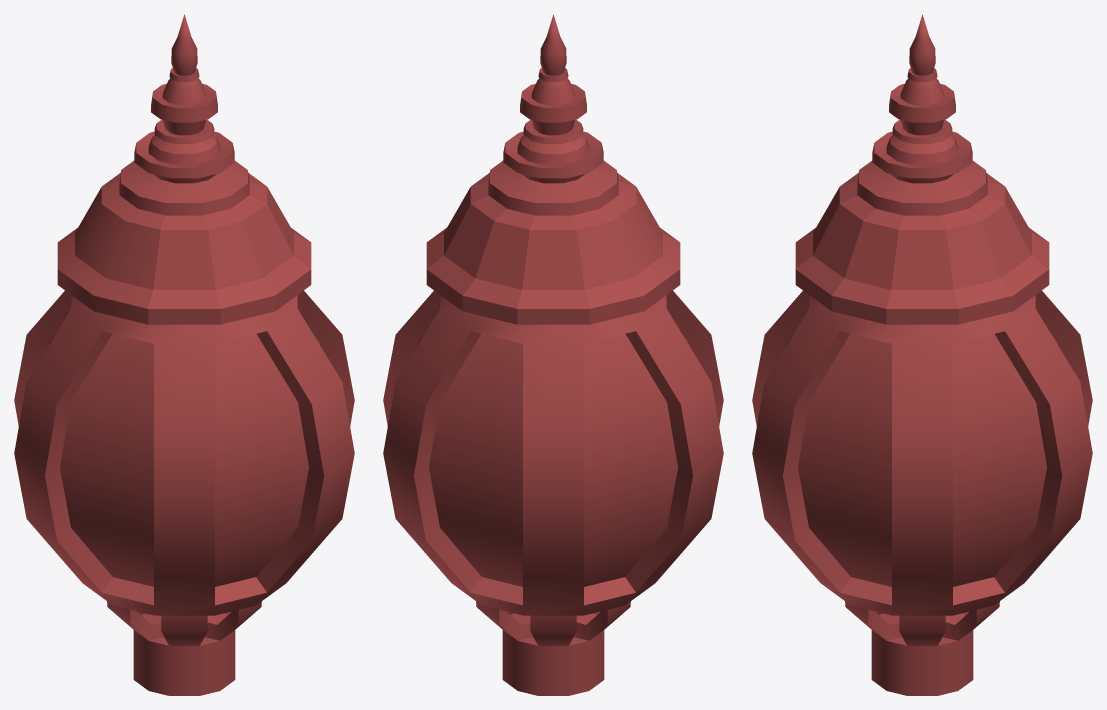
The model's file is StreetLightTop_1.fbx.
3 renders of one model, left to right at view 1: azimuth 30°, elevation 25°; view 2: azimuth 150°, elevation 25°; view 3: azimuth 270°, elevation 25°, orthographic.
Parts seen in each view (by area): view 1: StreetLightTop_1; view 2: StreetLightTop_1; view 3: StreetLightTop_1.
Part boxes in pixels (bbox=[...]): StreetLightTop_1: bbox=[14, 14, 354, 695]; StreetLightTop_1: bbox=[383, 14, 723, 695]; StreetLightTop_1: bbox=[752, 14, 1092, 695].
Bounding box in the file's own units: 36.67 × 74.71 × 34.9.
